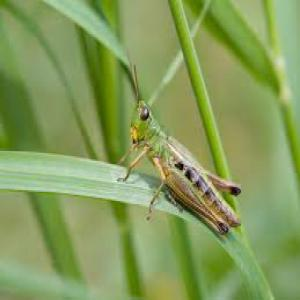locust: (123, 69, 251, 233)
